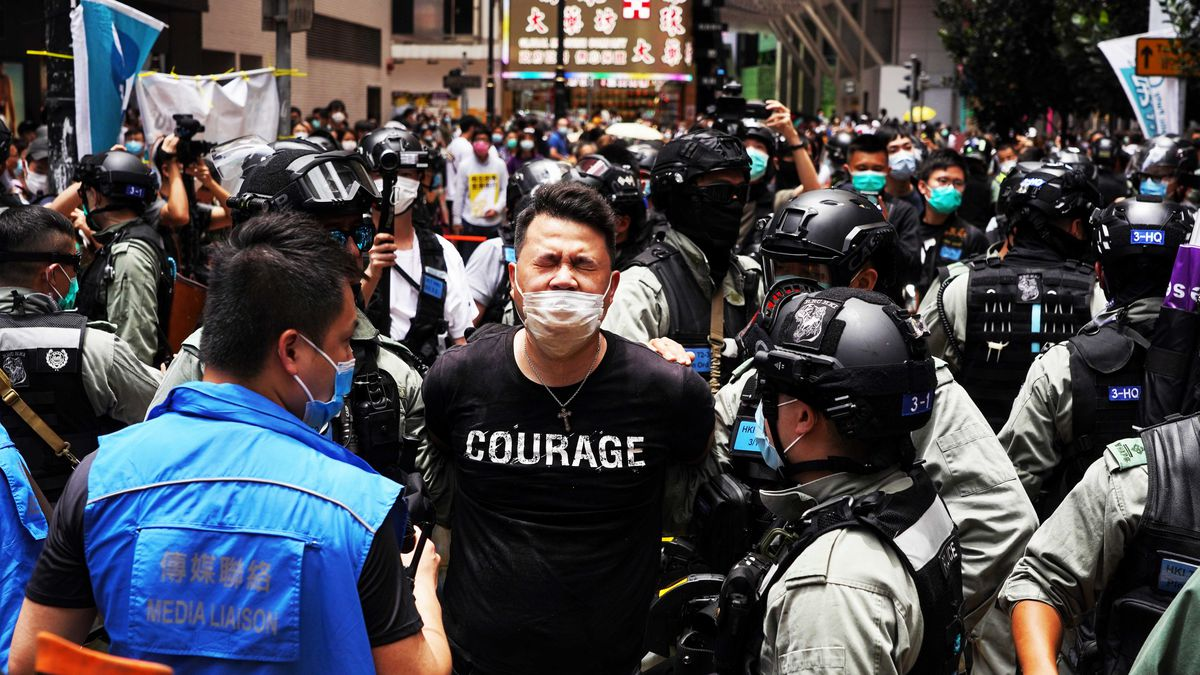nose: (549, 276, 579, 290)
